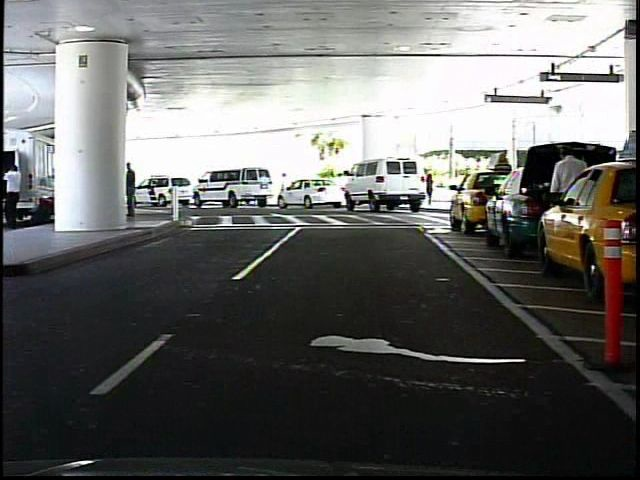person: (546, 139, 588, 265), (126, 159, 142, 225), (275, 170, 292, 204), (423, 170, 438, 208)
